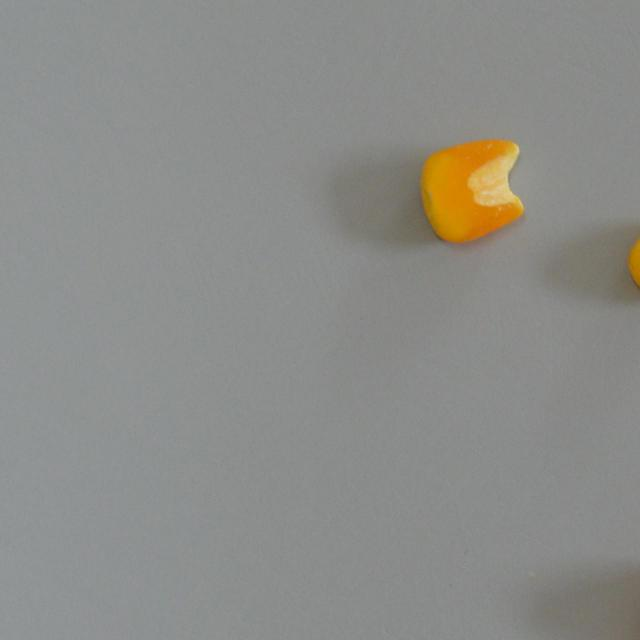dañado: (416, 132, 527, 246)
no_canjicado: (624, 210, 640, 306)
